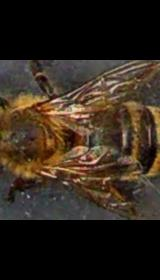varroa_mite: (64, 148, 98, 184)
